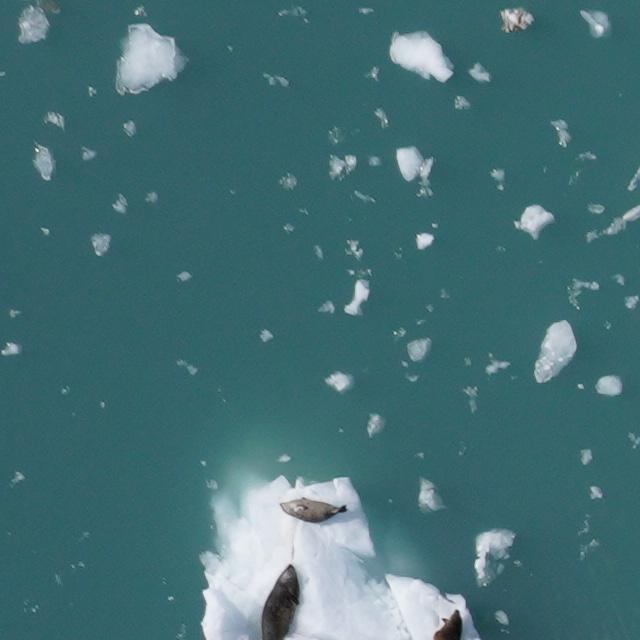seal: (278, 492, 352, 531)
